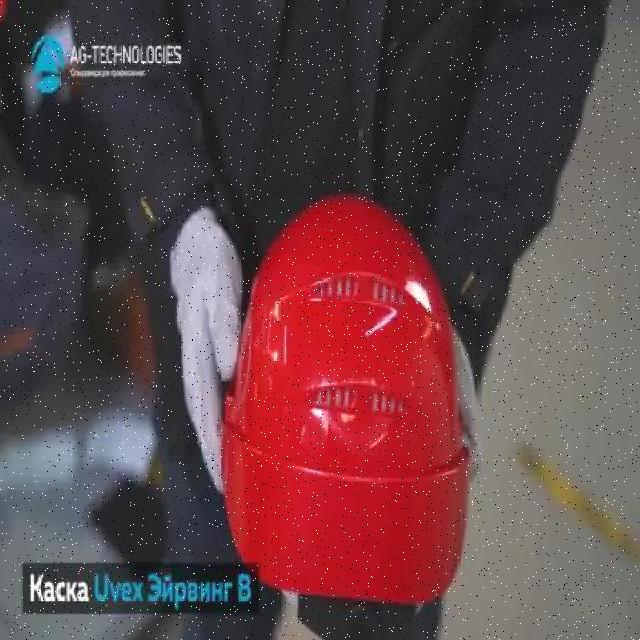Gloves: (174, 212, 243, 500), (446, 314, 494, 493)
Helmet: (214, 189, 468, 606)
